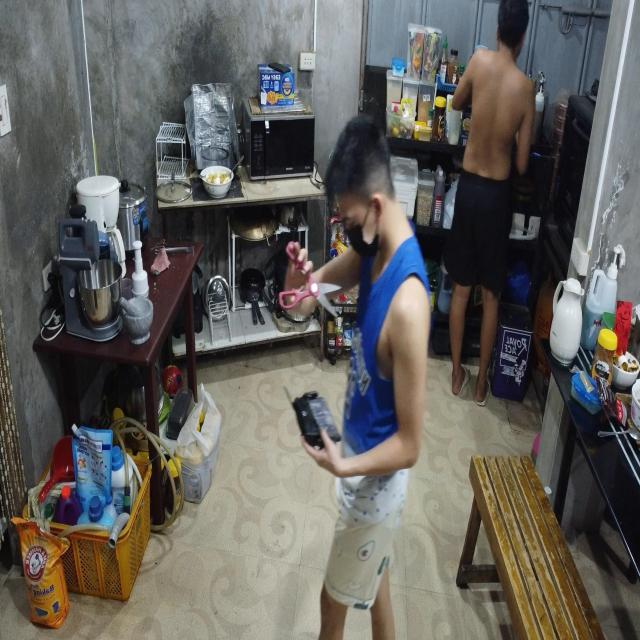scissor: (278, 241, 342, 320)
